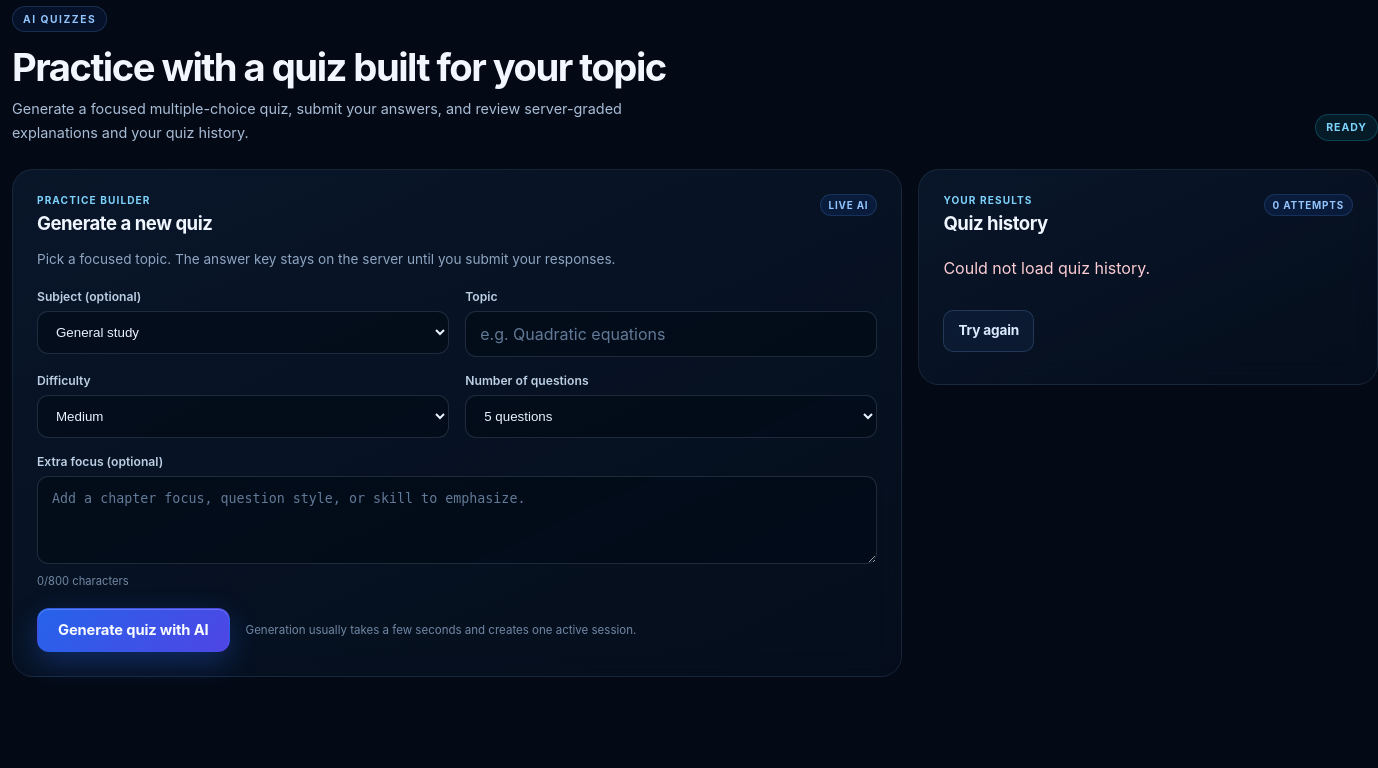
Test: quiz page › shows a history error with a retry action
Check: the text "Could not load quiz history." is shown, box x1=943 y1=258 x2=1150 y2=278
Click the button "Try again" at {"x": 989, "y": 331}, box x1=943 y1=310 x2=1034 y2=352
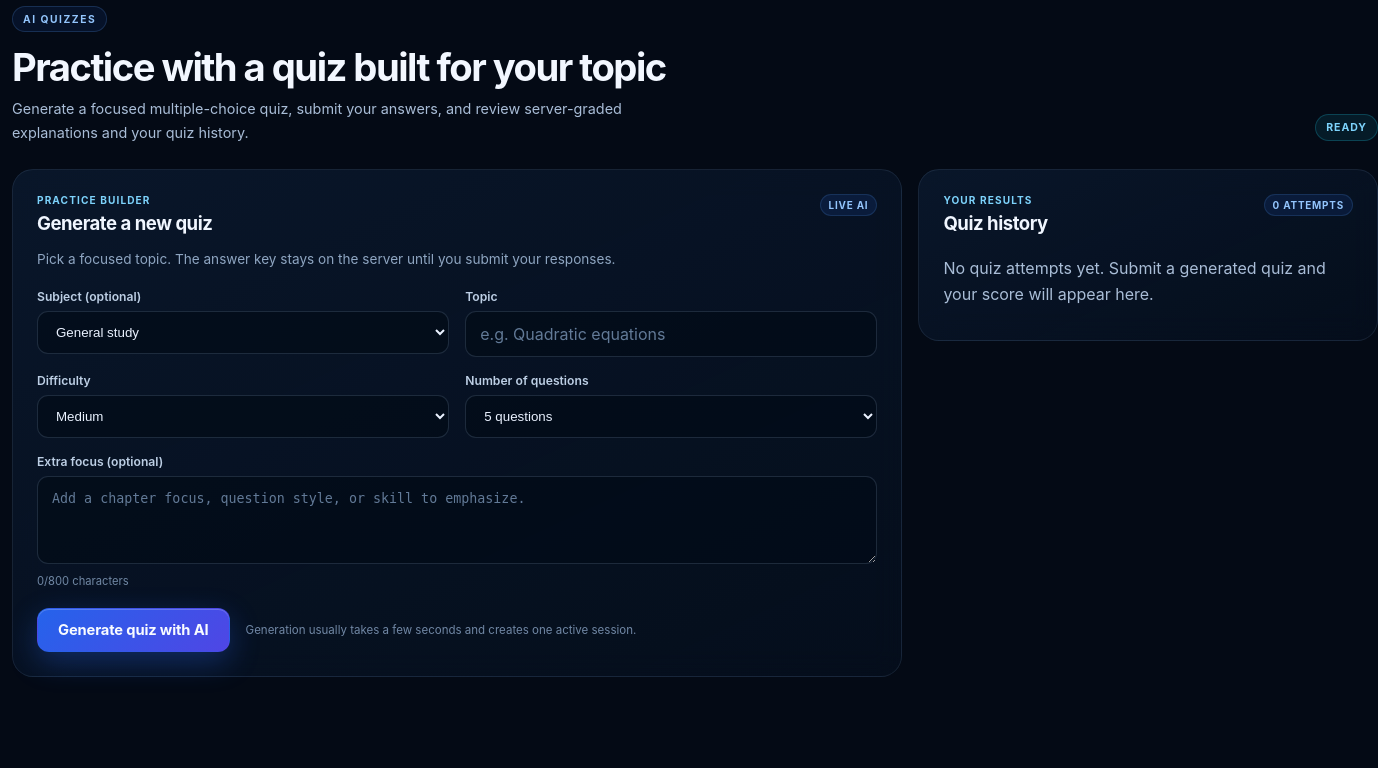
Check: the text "No quiz attempts yet" is shown, box x1=943 y1=258 x2=1326 y2=304
